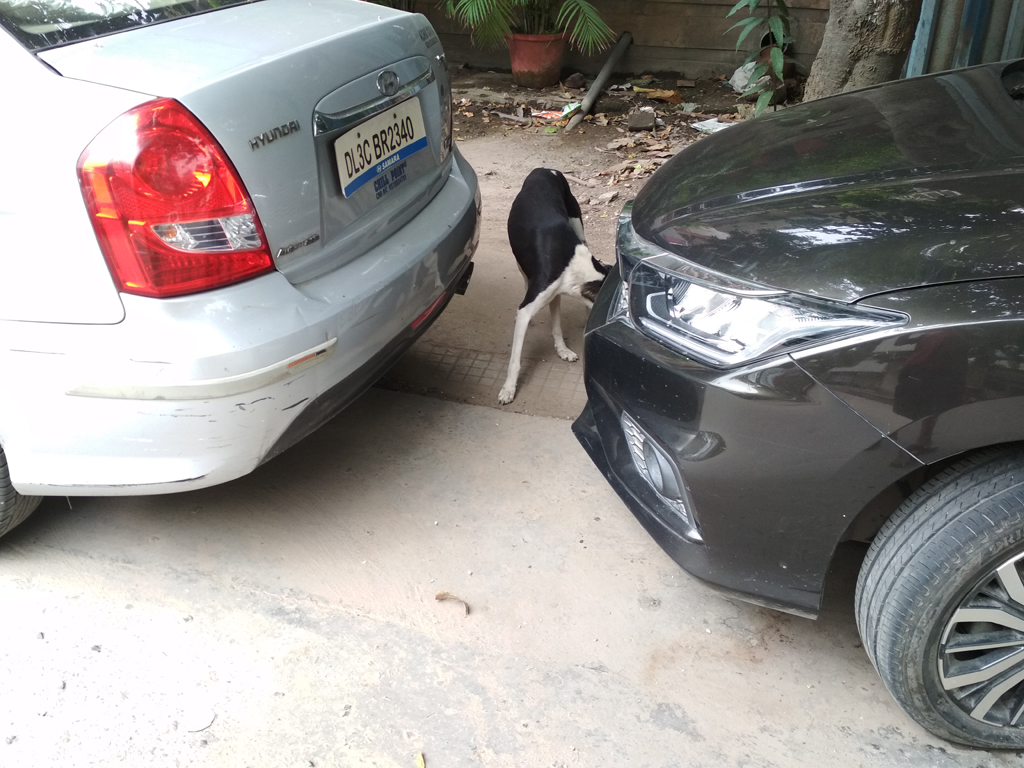dog: (496, 168, 613, 405)
